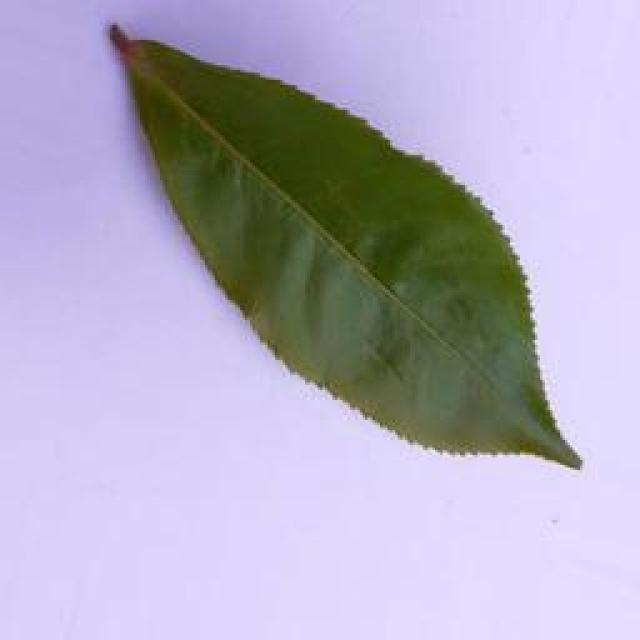Healthy: (94, 22, 582, 474)
